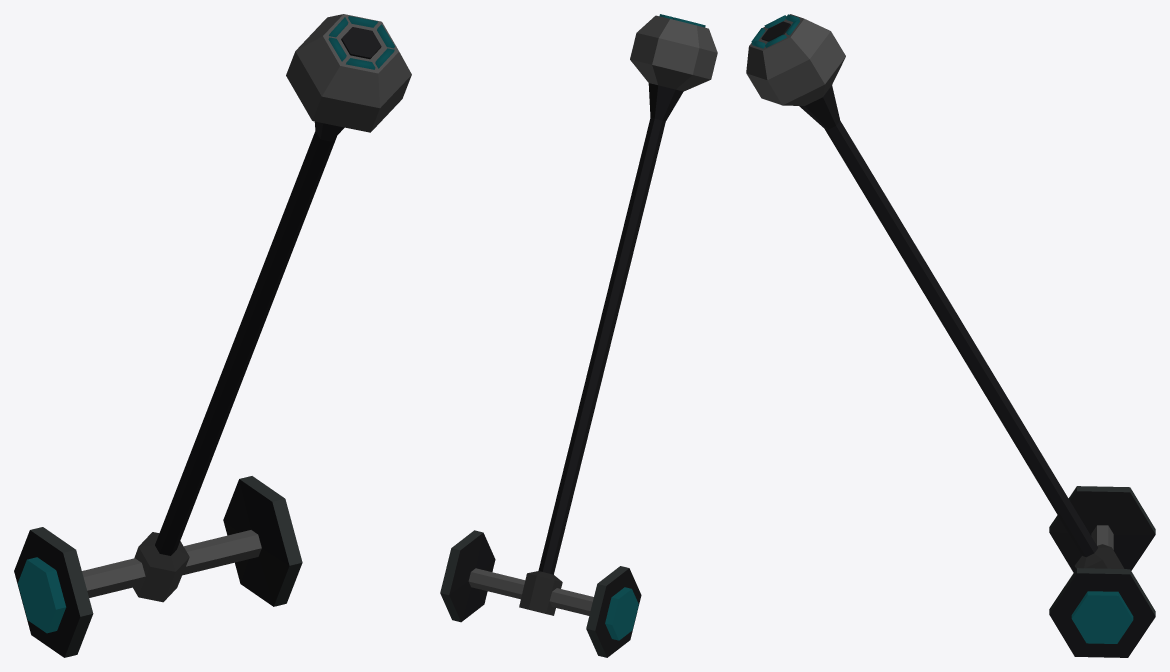
File: Lever_Stick.glb
The picture shows the model from 3 angles, left to right: view 1: azimuth 30°, elevation 25°; view 2: azimuth 150°, elevation 25°; view 3: azimuth 270°, elevation 25°; orthographic projection. The views are drawn at different scales.
Parts seen in each view (by area): view 1: MANA_Lever; view 2: MANA_Lever; view 3: MANA_Lever.
Boxes of the visible parts, x1,y1,x2,y2 form: MANA_Lever: [14, 14, 411, 657]; MANA_Lever: [440, 14, 717, 657]; MANA_Lever: [746, 14, 1155, 657].
Size of what is drawn, in the model's own units: 0.329 by 0.9598 by 0.598.
Materials: 2 (2 with a texture image).
